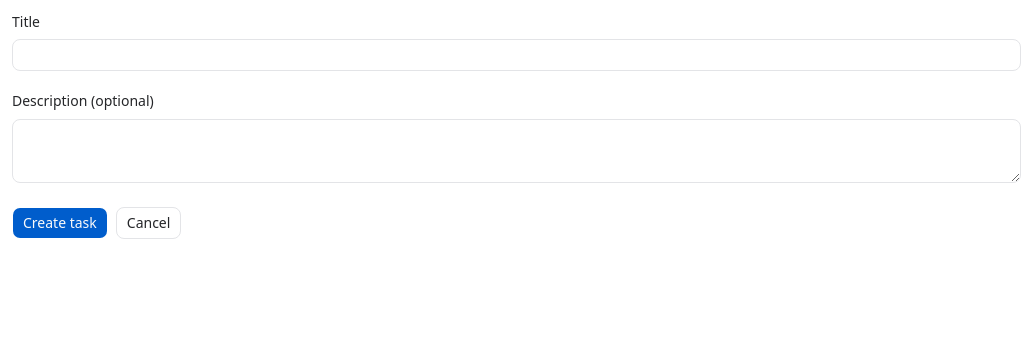
Test: TaskForm › shows any other failure as an alert inside the form and keeps the typed values
In the field labelled "Title": (516, 55) [12,39,1021,71], type "Wash the windows"
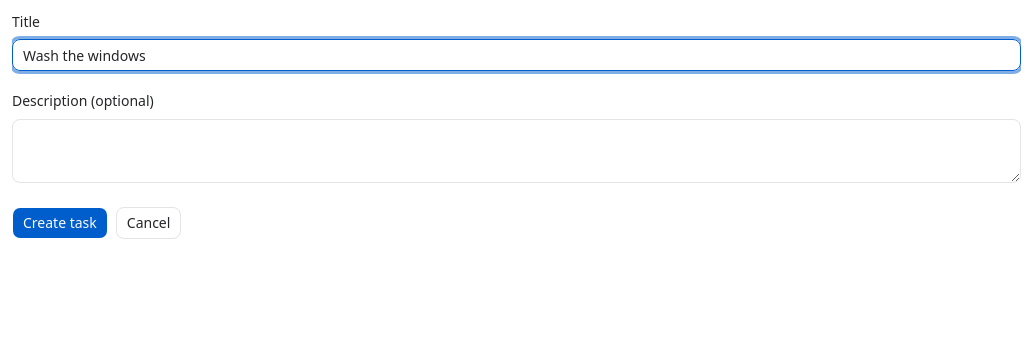
Click the button "Create task": (60, 222) [12,206,108,238]
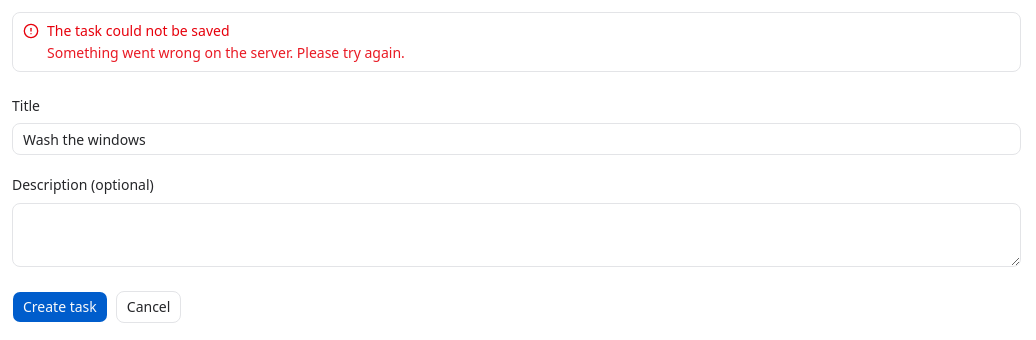
Result: the message shows "Something went wrong on the server. Please try again." at [47,43,405,62]
